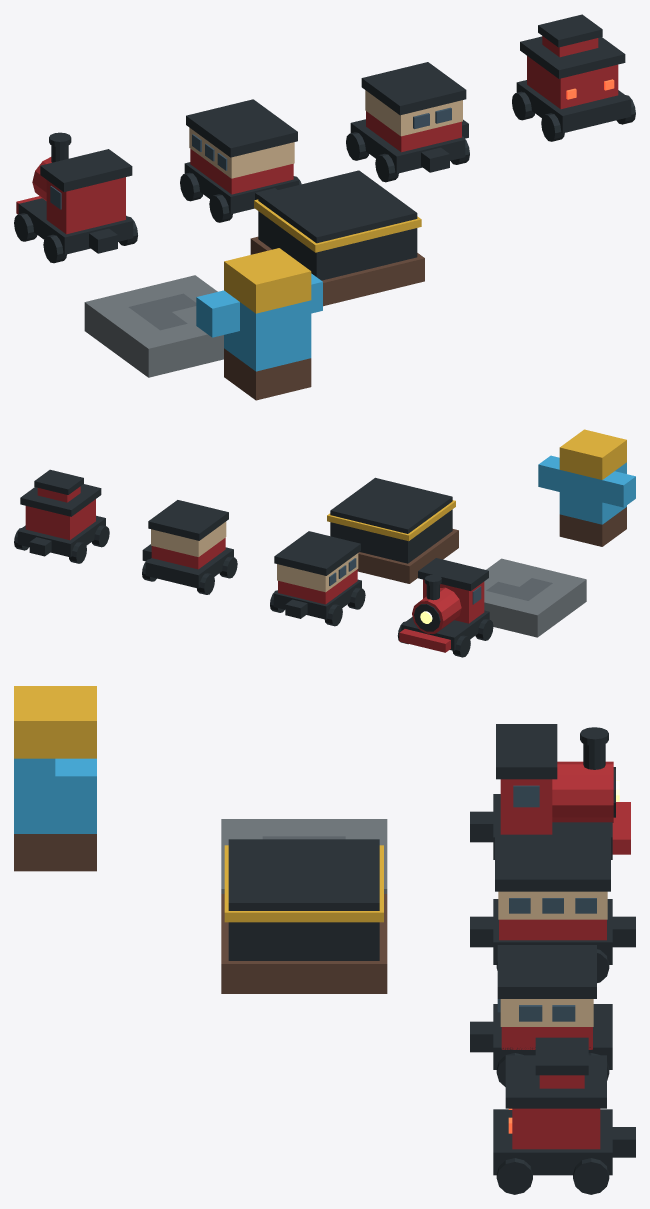
File: dragon_kit.glb
The picture shows the model from 3 angles, top to bottom: view 1: azimuth 30°, elevation 25°; view 2: azimuth 150°, elevation 25°; view 3: azimuth 270°, elevation 25°; orthographic projection. The views are drawn at different scales.
Parts seen in each view (by area): view 1: wall, passenger, turn, tail, head, straight, floor; view 2: wall, passenger, straight, turn, head, tail, floor; view 3: wall, tail, passenger, straight, head, turn, floor.
Boxes of the visible parts, <box> form: wall: <box>250,170,424,306</box>; passenger: <box>196,248,322,400</box>; turn: <box>346,62,469,182</box>; tail: <box>512,14,635,141</box>; head: <box>14,132,137,263</box>; straight: <box>180,99,301,222</box>; floor: <box>84,275,223,377</box>; wall: <box>327,477,458,583</box>; passenger: <box>538,429,635,546</box>; straight: <box>270,531,365,626</box>; turn: <box>142,500,237,594</box>; head: <box>397,558,493,657</box>; tail: <box>14,469,109,563</box>; floor: <box>484,558,586,637</box>; wall: <box>221,839,387,993</box>; tail: <box>493,1037,635,1194</box>; passenger: <box>14,686,96,871</box>; straight: <box>470,837,635,982</box>; head: <box>470,724,630,859</box>; turn: <box>470,945,612,1086</box>; floor: <box>221,819,387,893</box>.
Bounding box in the file's own units: 5.37 × 1.25 × 3.75.
